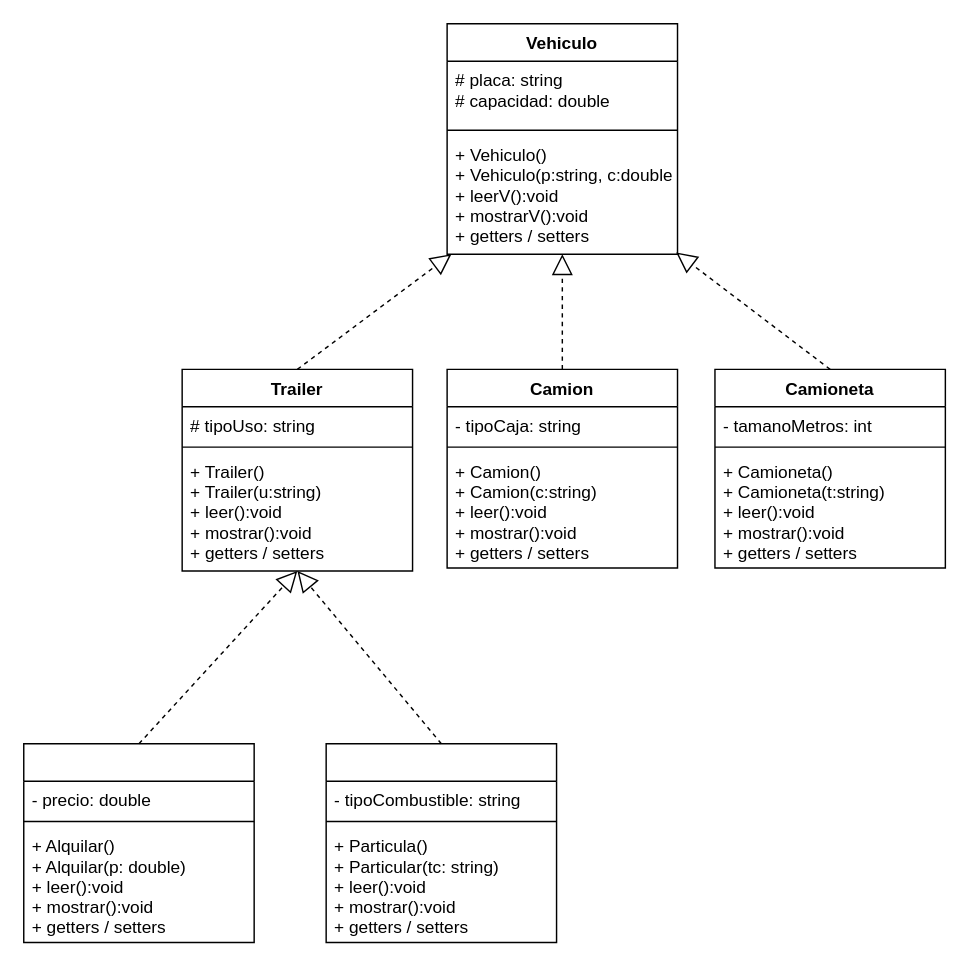
Some shapes in this 969 by 966 pixel diagram are drawn without their labels. Each missing label, with the box of its shape:
AlquilarTrailer: (22, 742, 254, 942)
ParticularTrailer: (325, 742, 557, 942)
